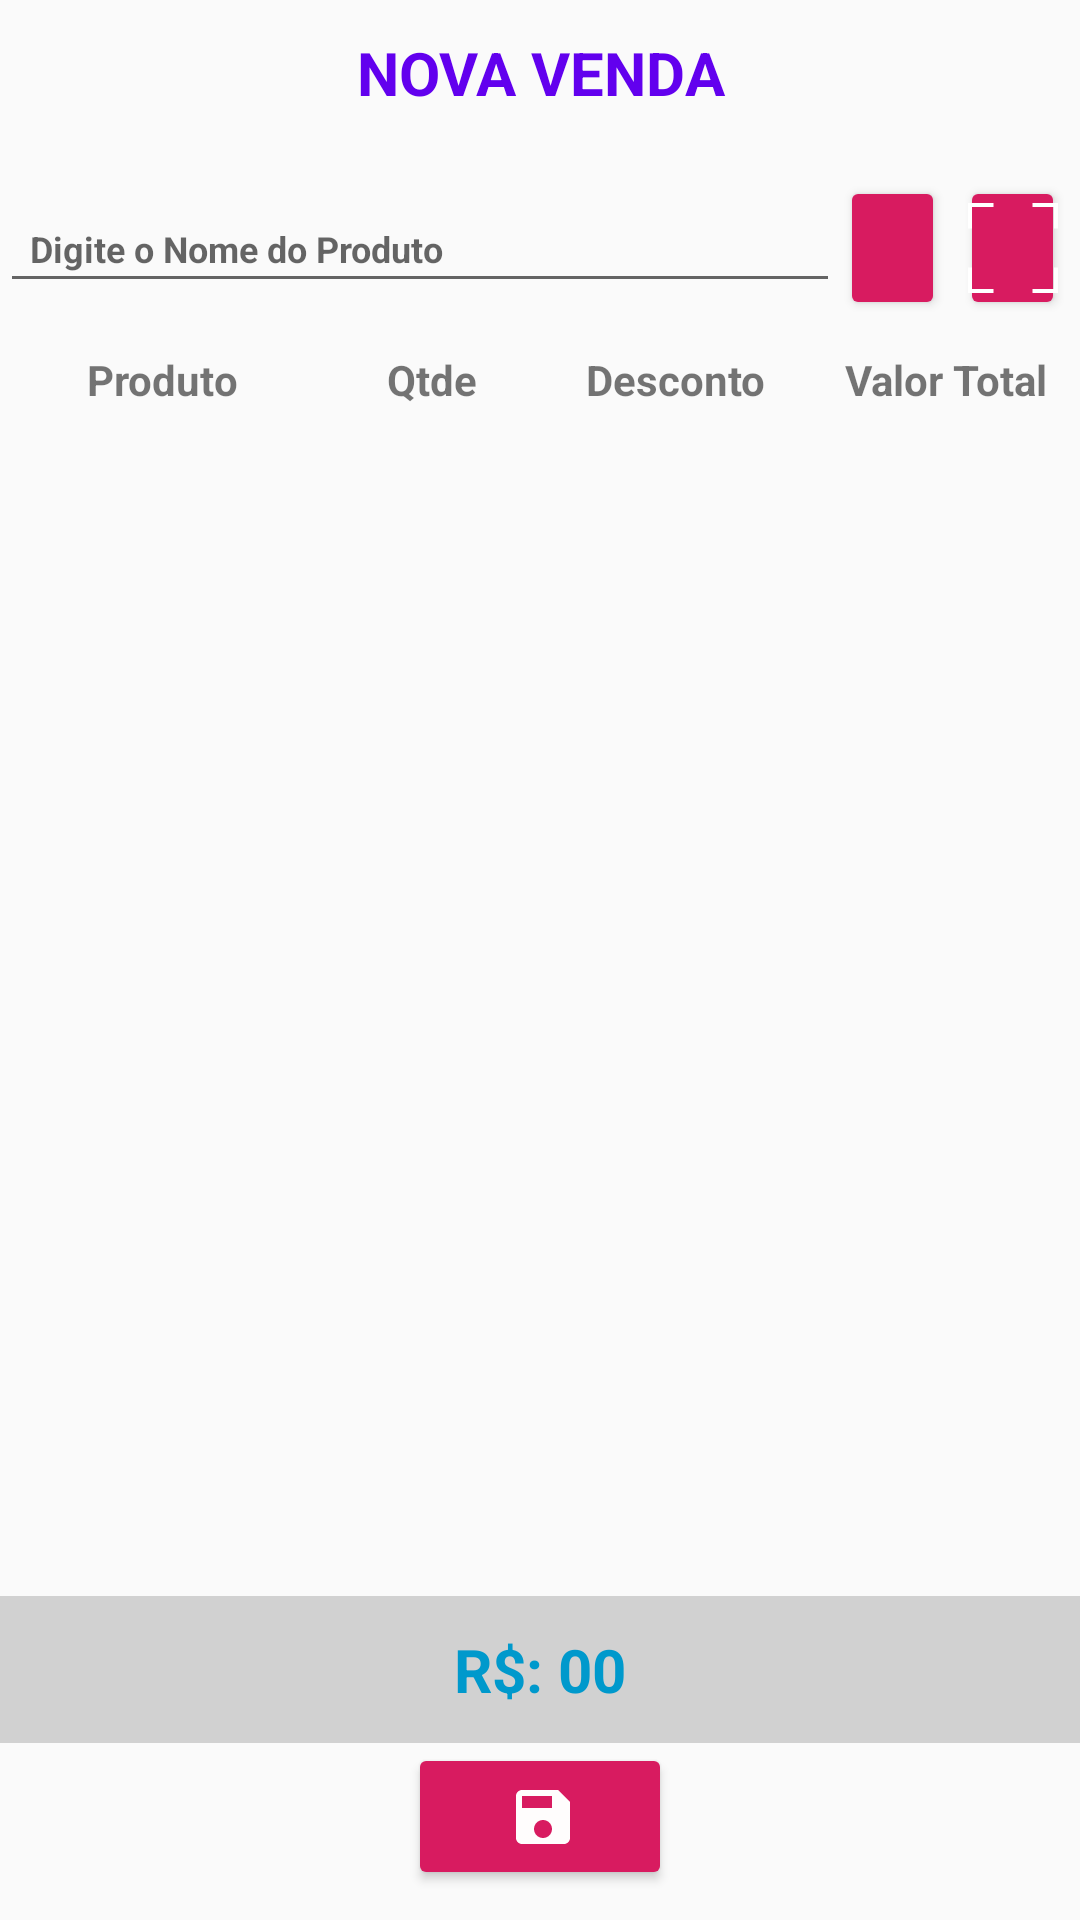

Named icons in this screenshot (1080 × 1920) and their centers, point (x, y):
qr code reader: point (1013, 248)
save: point (540, 1819)
